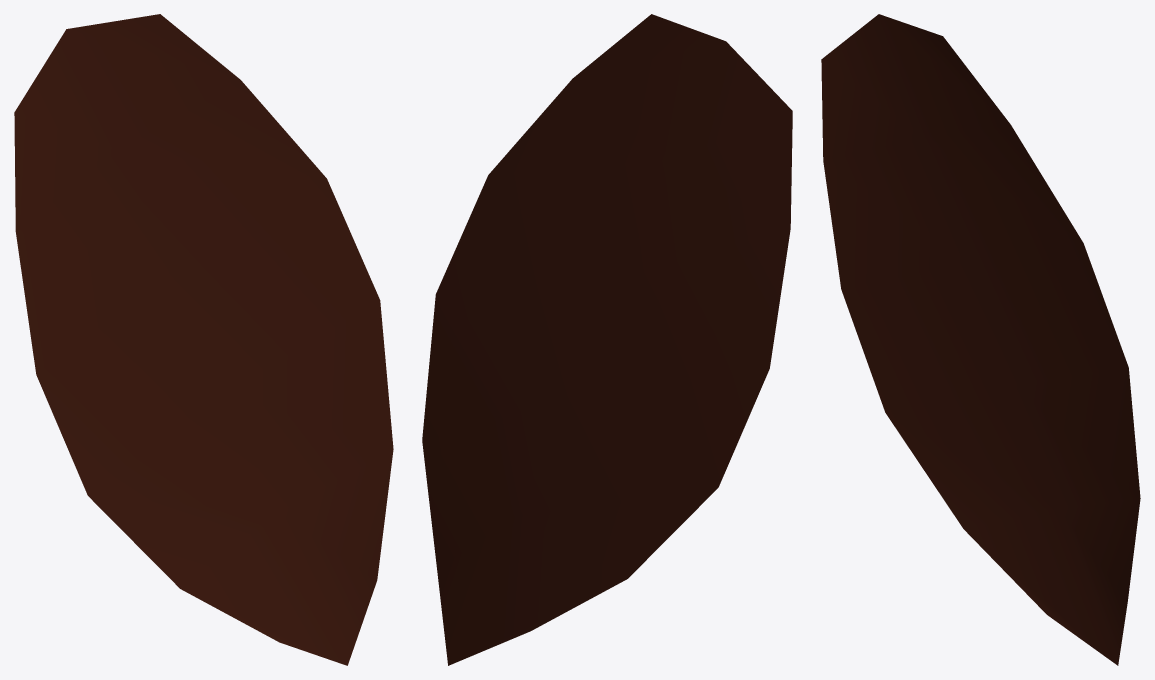
File: hen_feather_flight_tertiary_054.obj
3 views of the same model, side by side, from view 1: azimuth 30°, elevation 25°; view 2: azimuth 150°, elevation 25°; view 3: azimuth 330°, elevation 25° (orthographic). The views are drawn at different scales.
Parts seen in each view (by area): view 1: feather_flight_tertiary_054; view 2: feather_flight_tertiary_054; view 3: feather_flight_tertiary_054.
Boxes of the visible parts, bbox=[...] form: feather_flight_tertiary_054: bbox=[14, 14, 393, 665]; feather_flight_tertiary_054: bbox=[422, 14, 792, 665]; feather_flight_tertiary_054: bbox=[821, 14, 1140, 665].
Size of the model in its own units: 0.0135 by 0.024 by 0.000638.
